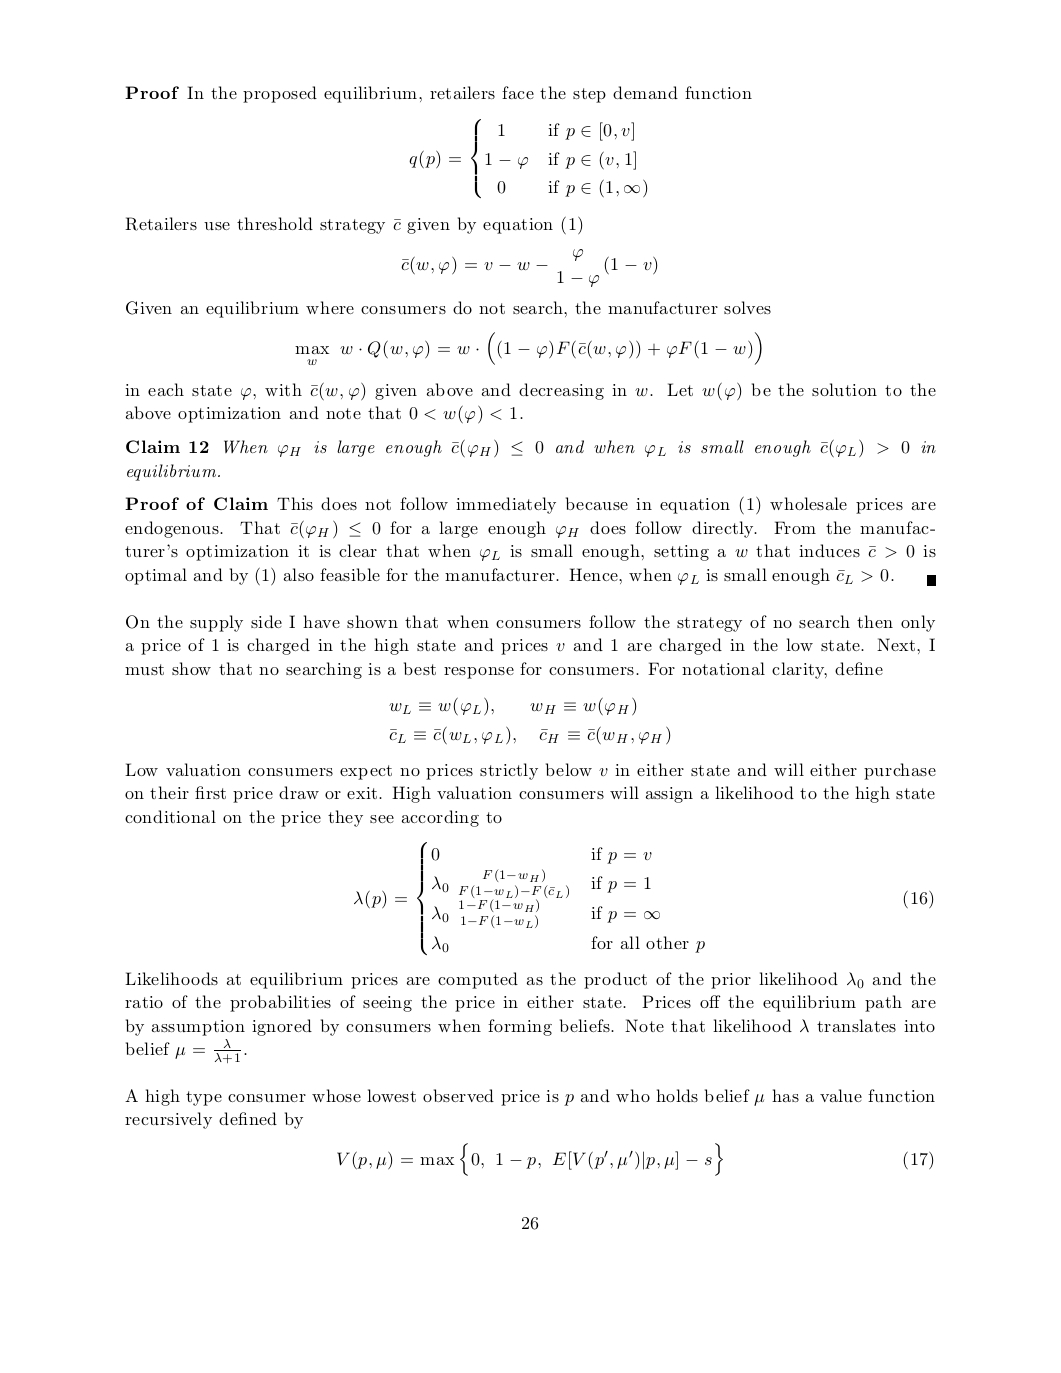formula: (354, 841, 933, 956), (337, 1142, 933, 1176), (409, 118, 648, 199), (295, 331, 761, 366), (401, 249, 658, 288), (389, 726, 670, 744), (389, 697, 636, 715)
